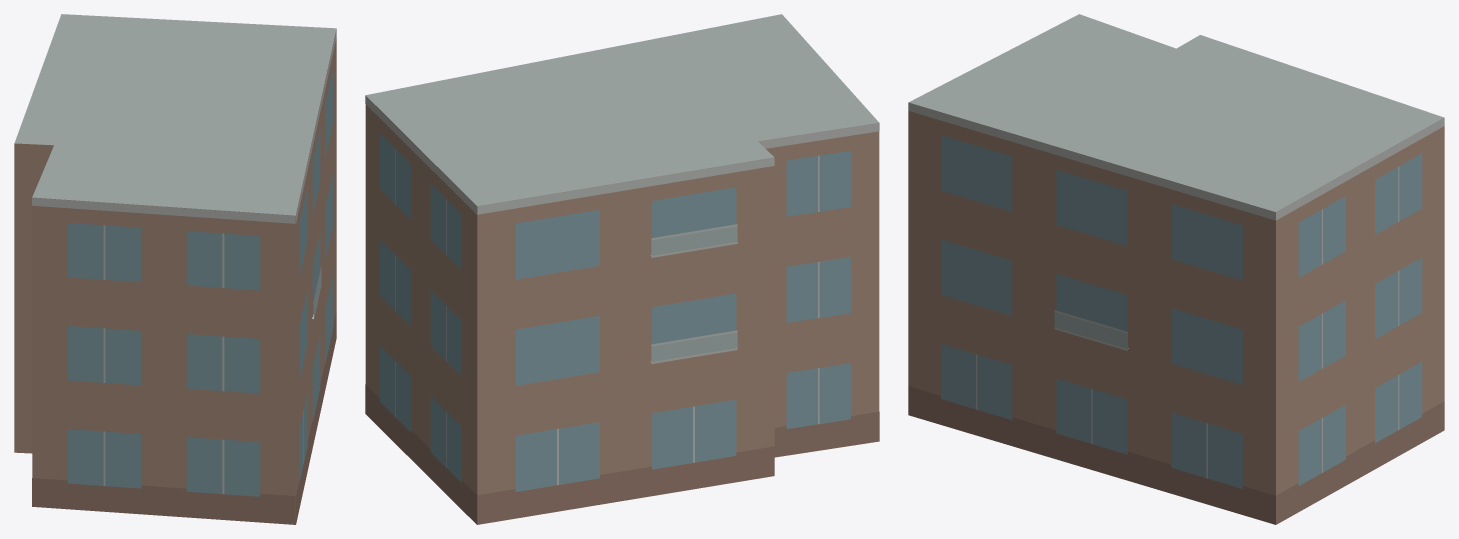
The model's file is survey-upis-32948252.glb.
3 views of the same model, side by side, from view 1: azimuth 30°, elevation 25°; view 2: azimuth 150°, elevation 25°; view 3: azimuth 270°, elevation 25° (orthographic). The views are drawn at different scales.
Parts seen in each view (by area): view 1: survey-upis-32948252.tmp; view 2: survey-upis-32948252.tmp; view 3: survey-upis-32948252.tmp.
Part boxes in pixels (left/top/right/bottom): survey-upis-32948252.tmp: left=14, top=14, right=336, bottom=524; survey-upis-32948252.tmp: left=365, top=14, right=879, bottom=524; survey-upis-32948252.tmp: left=908, top=14, right=1444, bottom=524.
Size of the model in its own units: 12.38 by 9.1 by 14.15.
